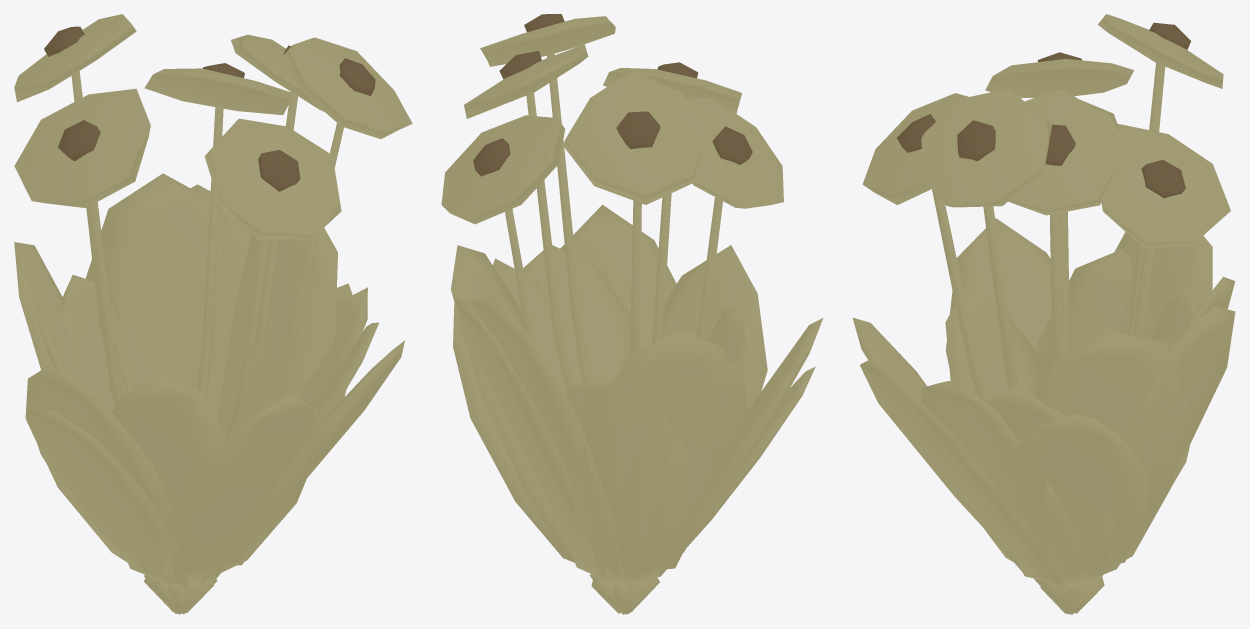
Rendered from Blender_Balsamroot_1.glb.
The picture shows the model from 3 angles, left to right: view 1: azimuth 30°, elevation 25°; view 2: azimuth 150°, elevation 25°; view 3: azimuth 270°, elevation 25°; orthographic projection. The views are drawn at different scales.
Parts seen in each view (by area): view 1: Blender_Balsamroot_1; view 2: Blender_Balsamroot_1; view 3: Blender_Balsamroot_1.
Boxes of the visible parts, x1,y1,x2,y2 form: Blender_Balsamroot_1: (14, 14, 412, 614); Blender_Balsamroot_1: (441, 14, 823, 614); Blender_Balsamroot_1: (852, 14, 1235, 614).
Bounding box in the file's own units: 0.3332 × 0.5386 × 0.3244.
